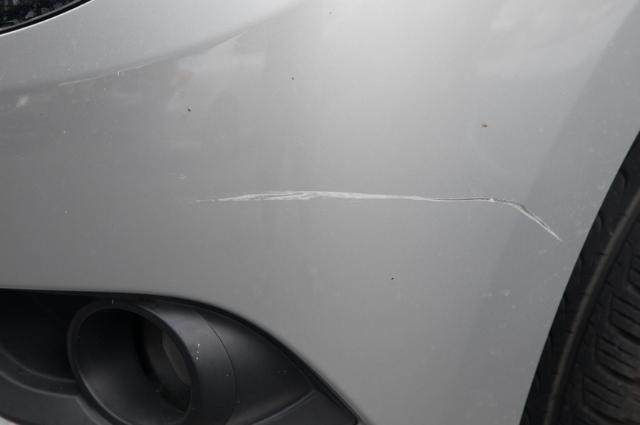Bumper: (183, 164, 583, 275)
